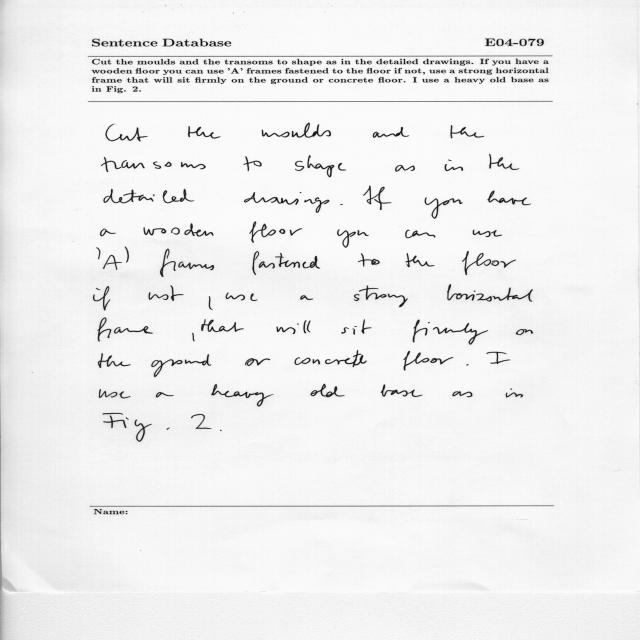word: (413, 319, 488, 345), (103, 413, 170, 442), (244, 192, 329, 213), (252, 251, 320, 275), (101, 157, 206, 172), (447, 285, 533, 302), (212, 384, 274, 407), (152, 354, 212, 377), (98, 318, 153, 342), (462, 251, 516, 275), (104, 189, 194, 203), (294, 350, 367, 367), (354, 286, 408, 308), (192, 320, 244, 342), (295, 155, 346, 177), (249, 222, 302, 243), (262, 123, 331, 138), (404, 351, 454, 371), (144, 224, 214, 237), (425, 197, 463, 219), (106, 124, 148, 141), (364, 186, 392, 210), (487, 191, 531, 206), (103, 247, 129, 270), (337, 230, 369, 248), (381, 384, 423, 397), (149, 286, 184, 301), (98, 353, 131, 368), (489, 154, 519, 170), (342, 319, 372, 335), (277, 320, 311, 334), (310, 384, 345, 397), (160, 249, 176, 277), (451, 125, 485, 138), (188, 126, 220, 139), (94, 286, 111, 310), (406, 253, 435, 267), (373, 127, 409, 138), (191, 414, 211, 429), (178, 262, 214, 270), (487, 352, 511, 364), (358, 254, 380, 267), (243, 157, 262, 172), (100, 389, 131, 398), (226, 293, 258, 301), (405, 230, 435, 238), (473, 230, 502, 237), (245, 358, 270, 366), (445, 160, 463, 171), (506, 389, 523, 398), (395, 165, 415, 172), (100, 229, 116, 237), (453, 392, 473, 398), (516, 329, 533, 335), (156, 392, 174, 397), (300, 295, 313, 300), (209, 296, 213, 310), (97, 248, 101, 260), (467, 364, 469, 366), (340, 204, 343, 205), (220, 430, 222, 431)
